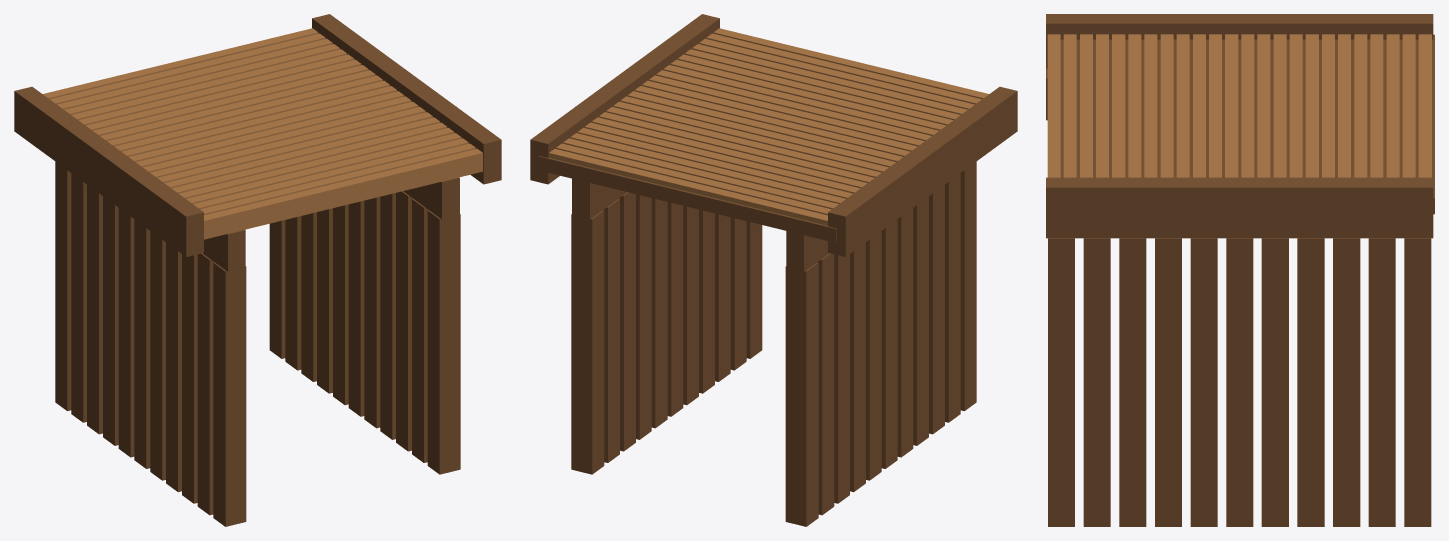
The model's file is kit-boardwalk-hi.glb.
3 views of the same model, side by side, from view 1: azimuth 30°, elevation 25°; view 2: azimuth 150°, elevation 25°; view 3: azimuth 270°, elevation 25° (orthographic). The views are drawn at different scales.
Parts seen in each view (by area): view 1: boardwalk.001; view 2: boardwalk.001; view 3: boardwalk.001.
Part boxes in pixels (x1,y1,x2,y2): boardwalk.001: (14, 14, 501, 526); boardwalk.001: (530, 14, 1017, 526); boardwalk.001: (1046, 14, 1434, 526).
Bounding box in the file's own units: 1.06 × 1.03 × 1.
